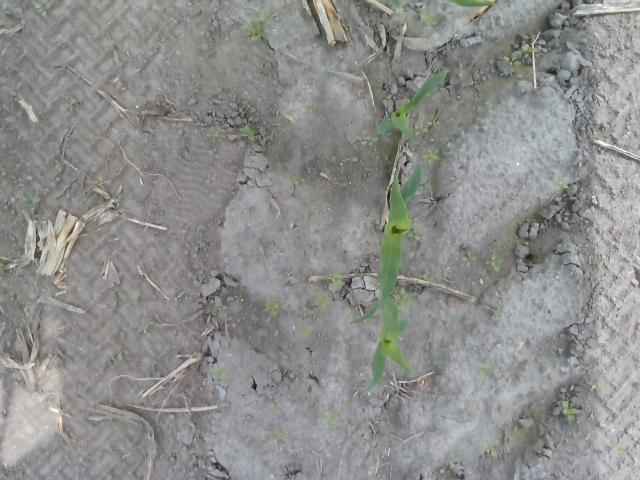Maize: (346, 163, 424, 397), (376, 69, 448, 146)
Weeds: (242, 13, 270, 42), (554, 402, 582, 422), (262, 298, 288, 318), (22, 196, 42, 222), (391, 289, 413, 308), (478, 359, 494, 383), (327, 271, 345, 291), (266, 429, 290, 444), (315, 286, 329, 308), (408, 228, 428, 243), (34, 2, 52, 18), (422, 148, 442, 162), (208, 368, 228, 382), (324, 407, 338, 427), (240, 125, 256, 142), (420, 12, 438, 26), (413, 123, 429, 138), (488, 254, 502, 271), (114, 344, 128, 360), (554, 178, 570, 192), (541, 359, 555, 374), (299, 326, 314, 340), (522, 44, 538, 57), (483, 445, 499, 458), (92, 176, 108, 188), (208, 128, 220, 144), (298, 308, 316, 318), (268, 402, 282, 414), (588, 378, 602, 390), (463, 252, 475, 266), (67, 98, 77, 114), (285, 176, 300, 186), (502, 56, 520, 64), (361, 138, 378, 146), (228, 294, 244, 302), (498, 278, 507, 292), (614, 444, 626, 454), (422, 270, 431, 283), (144, 324, 152, 338), (585, 433, 597, 442), (110, 290, 117, 305), (426, 119, 439, 127), (492, 310, 502, 320), (390, 1, 404, 8), (306, 104, 318, 112), (217, 306, 227, 314), (134, 292, 142, 302), (242, 101, 250, 110), (283, 0, 292, 6), (596, 262, 602, 266)
